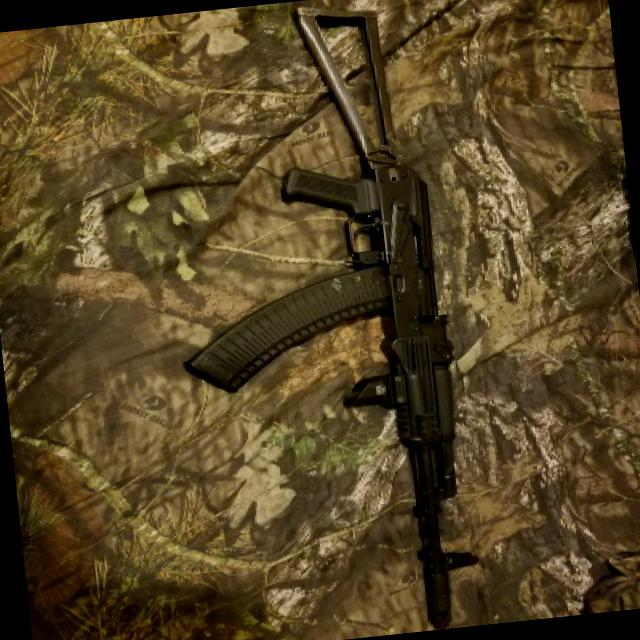long weapon: (145, 0, 515, 639)
